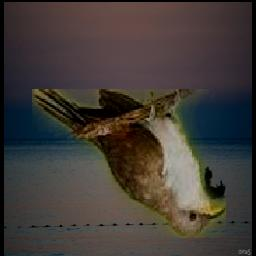Cuckoo: (32, 90, 226, 239)
